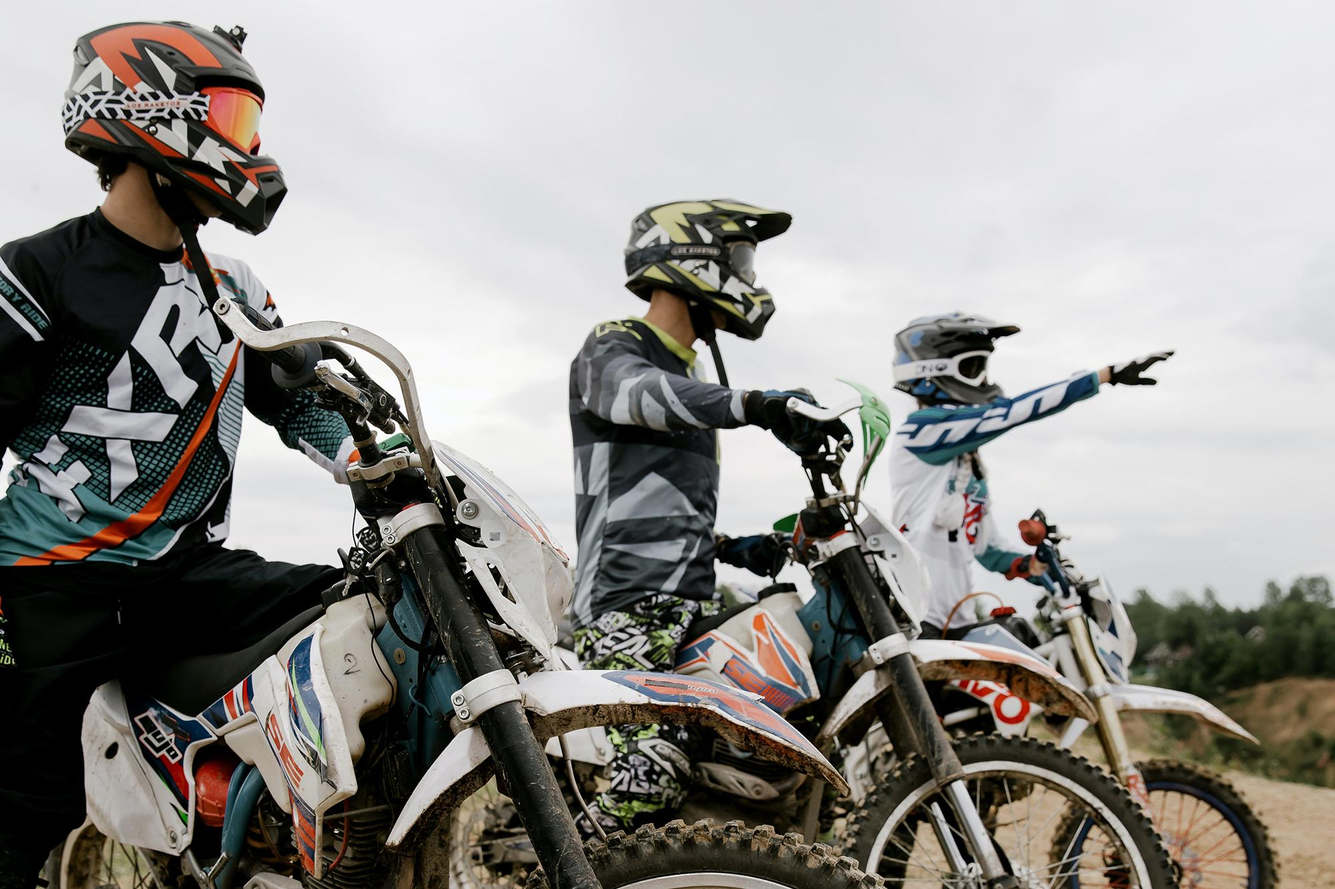helmet: (60, 18, 289, 237), (622, 196, 794, 343), (891, 309, 1023, 413)
